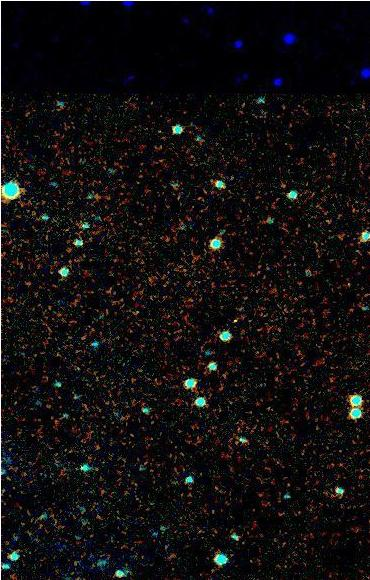star: (221, 306, 251, 336)
